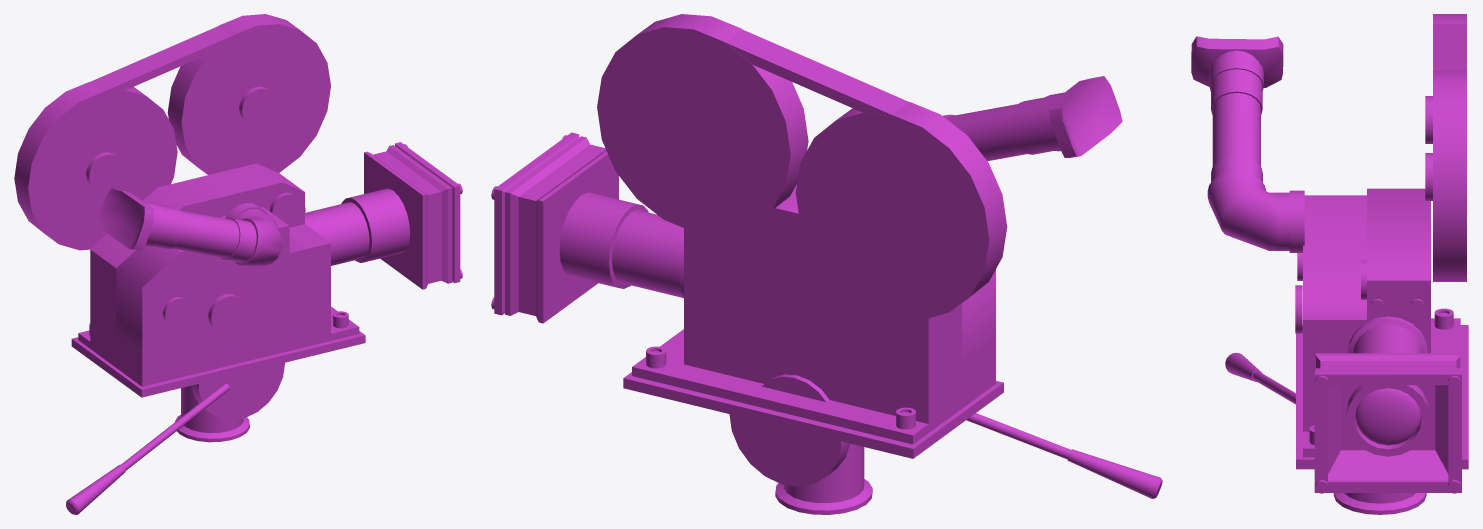
Rendered from camera.glb.
The picture shows the model from 3 angles, left to right: view 1: azimuth 30°, elevation 25°; view 2: azimuth 150°, elevation 25°; view 3: azimuth 270°, elevation 25°; orthographic projection. The views are drawn at different scales.
Parts seen in each view (by area): view 1: camBody1, pCylinder15, pCylinder14, lensHousing, camBody2, dialFront1, lensBarrel, pCube6, pCylinder18, pCube5, pCube7, pCylinder22 (+7 smaller); view 2: camBody2, pCylinder14, pCylinder15, lensHousing, lensBarrel, plate1, pCube6, pCylinder19, pCube5, dialFront1, pCube7, pCylinder21 (+3 smaller); view 3: lensHousing, dialFront1, camBody1, camBody2, pCylinder15, lens, pCube7, lensBarrel, pCube6, lensRing, pCylinder21, pCube5 (+7 smaller).
Boxes of the visible parts, <box> form: camBody1: <box>116,207,330,383</box>; pCylinder15: <box>167,14,330,174</box>; pCylinder14: <box>14,82,177,250</box>; lensHousing: <box>364,142,460,289</box>; camBody2: <box>90,163,304,363</box>; dialFront1: <box>143,201,281,266</box>; lensBarrel: <box>305,188,410,265</box>; pCube6: <box>71,331,365,397</box>; pCylinder18: <box>191,362,284,420</box>; pCube5: <box>90,26,231,91</box>; pCube7: <box>97,188,153,250</box>; pCylinder22: <box>66,383,229,514</box>; camBody2: <box>684,184,962,428</box>; pCylinder14: <box>795,102,1007,320</box>; pCylinder15: <box>597,14,808,234</box>; lensHousing: <box>494,132,618,323</box>; lensBarrel: <box>559,192,683,298</box>; plate1: <box>632,329,995,444</box>; pCube6: <box>623,372,1003,458</box>; pCylinder19: <box>729,414,849,486</box>; pCube5: <box>725,29,909,114</box>; dialFront1: <box>943,92,1064,161</box>; pCube7: <box>1049,76,1122,158</box>; pCylinder21: <box>775,443,872,514</box>; lensHousing: <box>1314,353,1461,492</box>; dialFront1: <box>1207,50,1304,252</box>; camBody1: <box>1303,195,1366,431</box>; camBody2: <box>1367,188,1430,353</box>; pCylinder15: <box>1433,70,1466,281</box>; lens: <box>1355,388,1421,445</box>; pCube7: <box>1191,36,1283,87</box>; lensBarrel: <box>1347,316,1428,353</box>; pCube6: <box>1296,325,1468,469</box>; lensRing: <box>1346,385,1429,456</box>; pCylinder21: <box>1333,493,1426,514</box>; pCube5: <box>1433,23,1466,70</box>.
Bounding box in the file's own units: 18.92 × 15.65 × 8.65.
